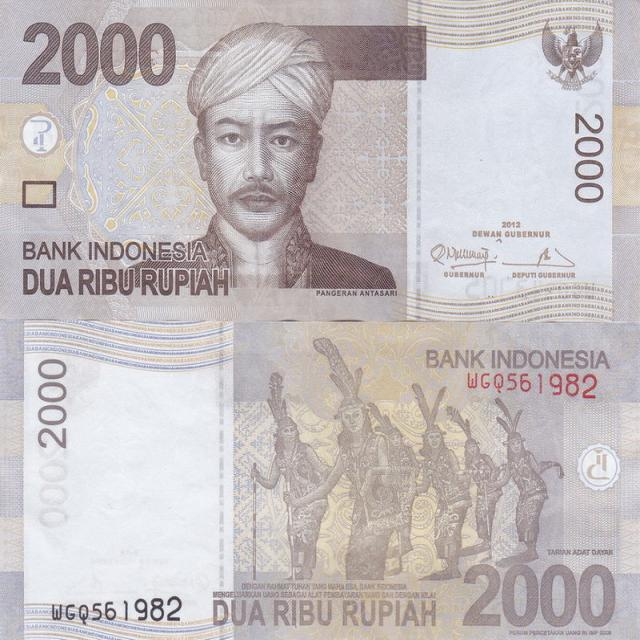dua ribu rupiah: (0, 0, 640, 325), (3, 330, 640, 640)
